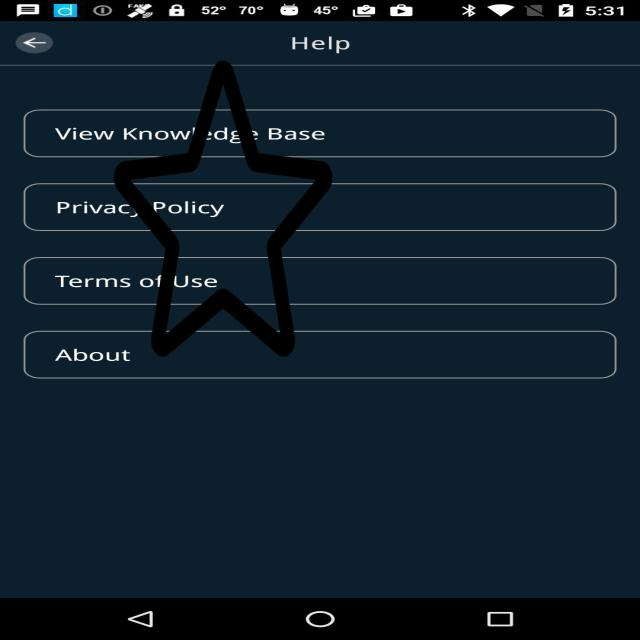forced continuity: (114, 54, 332, 363)
